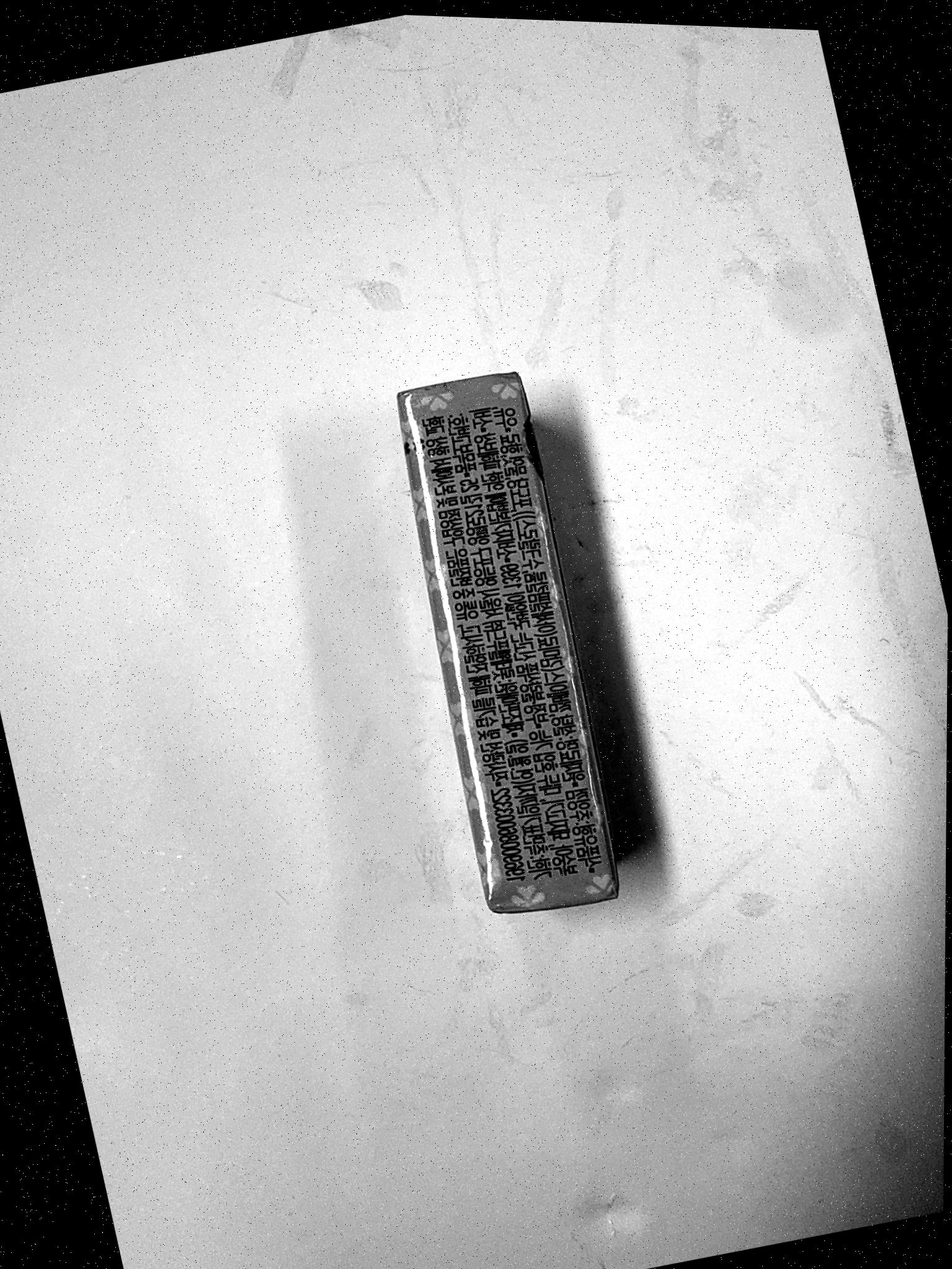gum_yellow: (398, 373, 618, 913)
